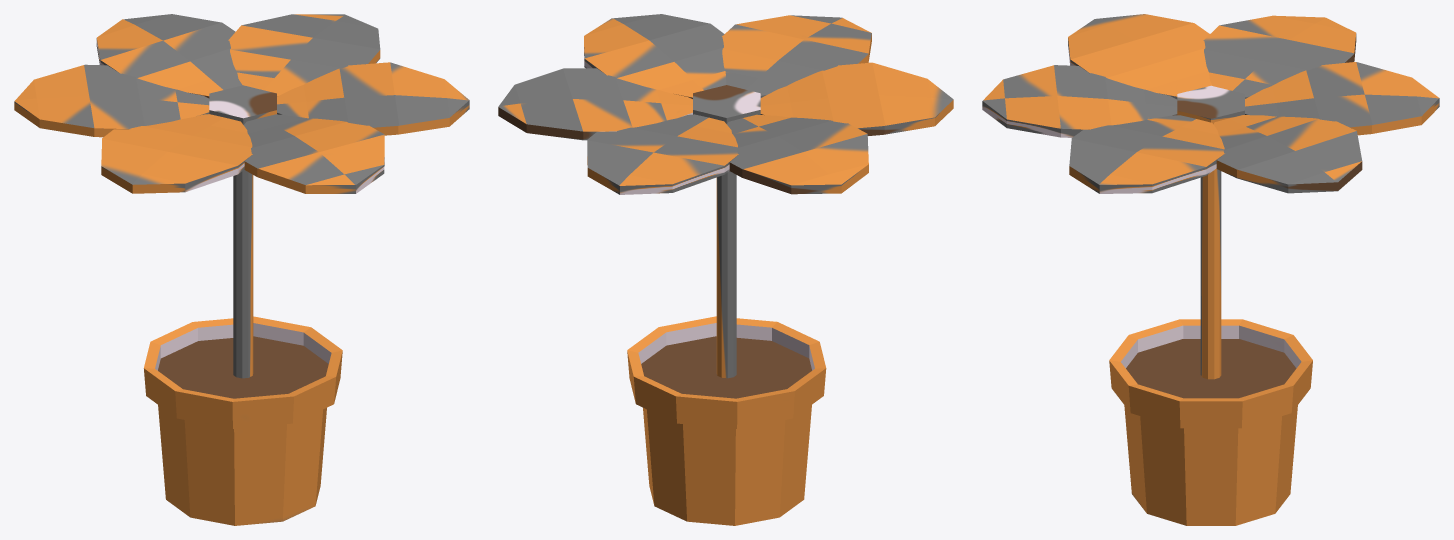
File: riesen_blume.fbx
The picture shows the model from 3 angles, left to right: view 1: azimuth 30°, elevation 25°; view 2: azimuth 150°, elevation 25°; view 3: azimuth 270°, elevation 25°; orthographic projection.
Visible parts, largest first — view 1: topf, blatt5, blatt1, blatt2, blatt6, blatt4, blatt3, stamm, mitte; view 2: topf, blatt4, blatt1, blatt3, blatt2, blatt5, blatt6, stamm, mitte; view 3: topf, blatt5, blatt4, blatt6, blatt3, blatt1, blatt2, stamm, mitte.
Boxes of the visible parts, x1=… form: topf: x1=143, y1=316, x2=342, y2=525; blatt5: x1=277, y1=62, x2=469, y2=135; blatt1: x1=101, y1=114, x2=252, y2=193; blatt2: x1=14, y1=64, x2=209, y2=137; blatt6: x1=244, y1=114, x2=384, y2=193; blatt4: x1=228, y1=14, x2=380, y2=96; blatt3: x1=96, y1=14, x2=242, y2=98; stamm: x1=233, y1=170, x2=253, y2=378; mitte: x1=209, y1=85, x2=276, y2=124; topf: x1=627, y1=316, x2=826, y2=525; blatt4: x1=498, y1=68, x2=692, y2=140; blatt1: x1=760, y1=62, x2=953, y2=135; blatt3: x1=587, y1=114, x2=738, y2=194; blatt2: x1=727, y1=114, x2=868, y2=194; blatt5: x1=584, y1=14, x2=726, y2=98; blatt6: x1=722, y1=15, x2=871, y2=97; stamm: x1=716, y1=171, x2=736, y2=378; mitte: x1=693, y1=85, x2=760, y2=123; topf: x1=1109, y1=319, x2=1312, y2=525; blatt5: x1=1069, y1=115, x2=1224, y2=193; blatt4: x1=1213, y1=115, x2=1362, y2=193; blatt6: x1=982, y1=65, x2=1177, y2=137; blatt3: x1=1245, y1=62, x2=1439, y2=135; blatt1: x1=1068, y1=14, x2=1212, y2=99; blatt2: x1=1203, y1=15, x2=1356, y2=98; stamm: x1=1200, y1=169, x2=1221, y2=379; mitte: x1=1177, y1=85, x2=1244, y2=124.
Bounding box in the file's own units: 952 × 1035 × 1078.
Materials: 9 (9 with a texture image).
